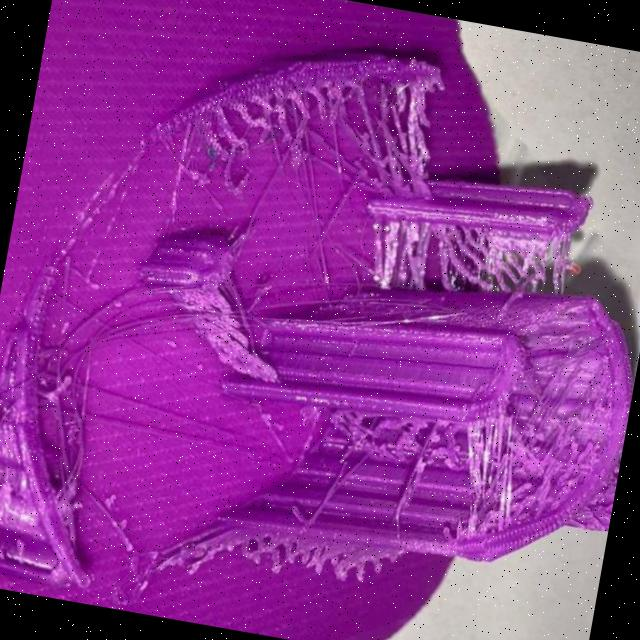stringing: (458, 408, 528, 520), (466, 222, 565, 301), (372, 212, 468, 289), (381, 78, 442, 186), (41, 330, 98, 444), (278, 68, 350, 132), (230, 88, 282, 142)
